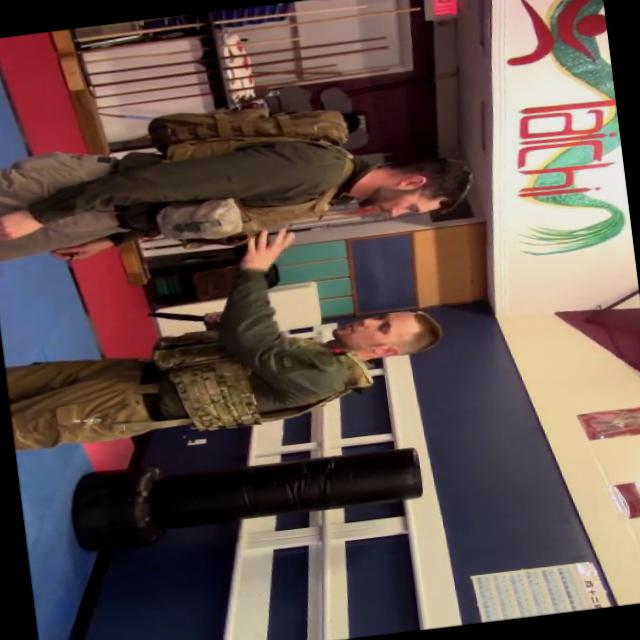knife: (136, 294, 220, 332)
